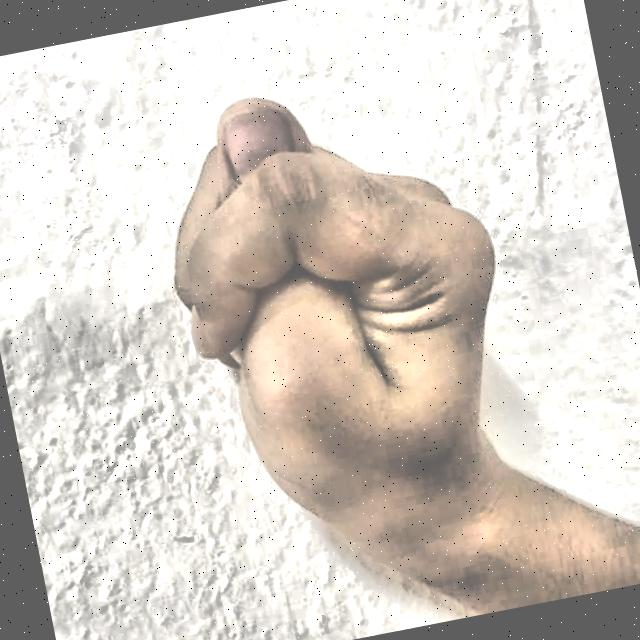Ta: (98, 13, 608, 640)
